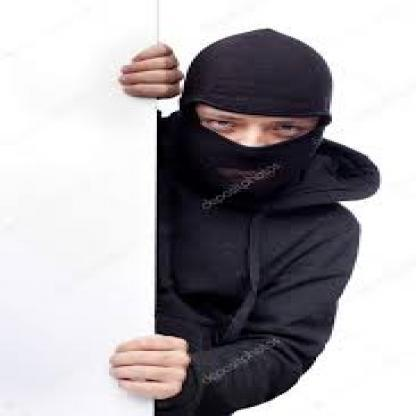criminal: (108, 28, 380, 416)
